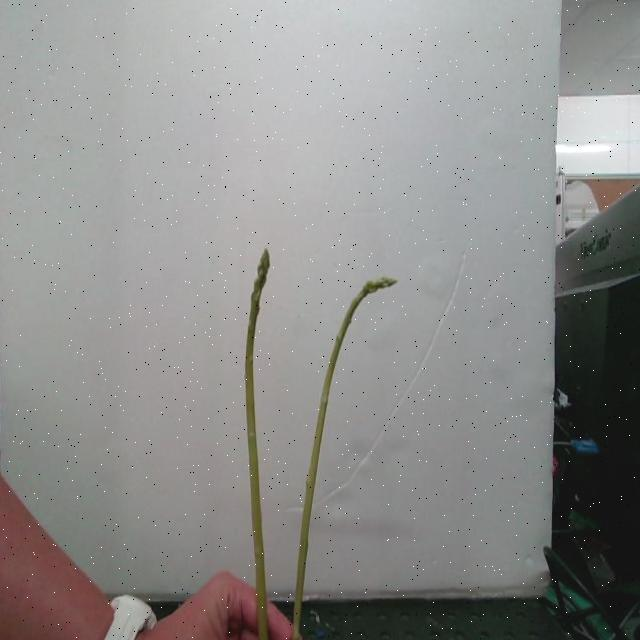aspargus: (292, 280, 383, 640), (245, 249, 271, 640)
